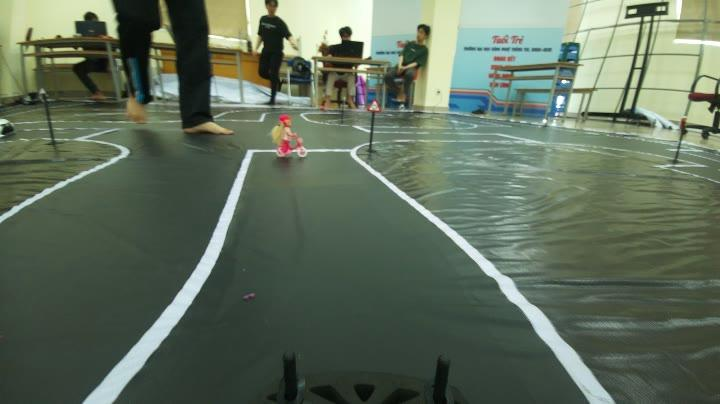pedestrian: (270, 113, 317, 169)
